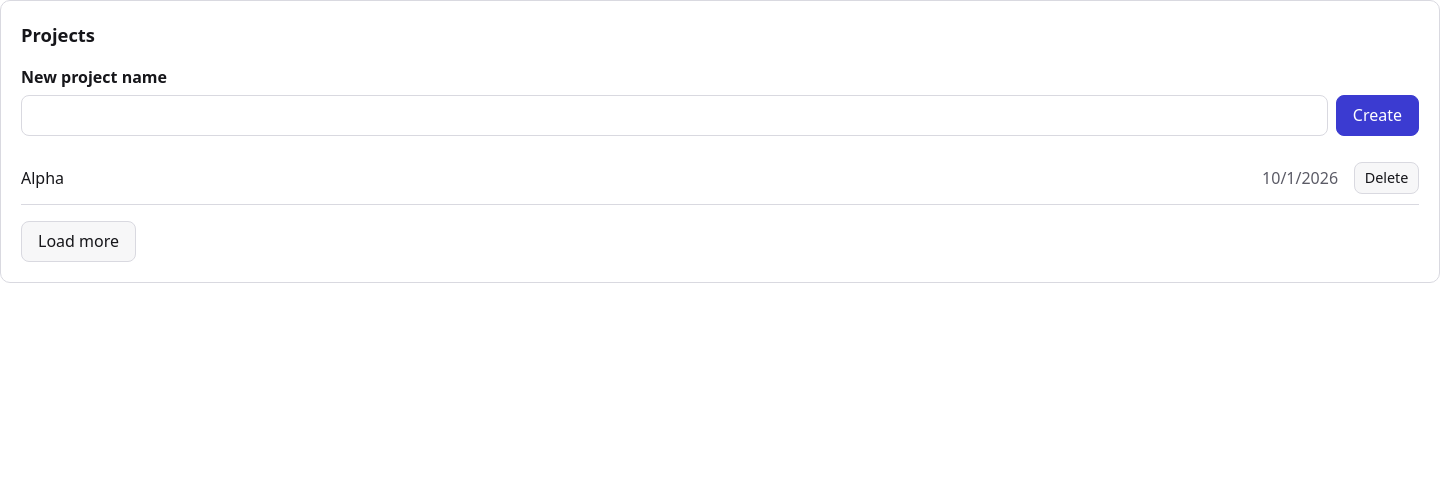
Test case: projects panel errors (FE-10) › offers sign-in when the session expired while creating, keeping the typed name
Expected: the text "Alpha" is shown, [21,166,64,188]
Type "Beta" into the field labelled "New project name".
click(674, 116); type("Beta")  # box [21,95,1328,136]
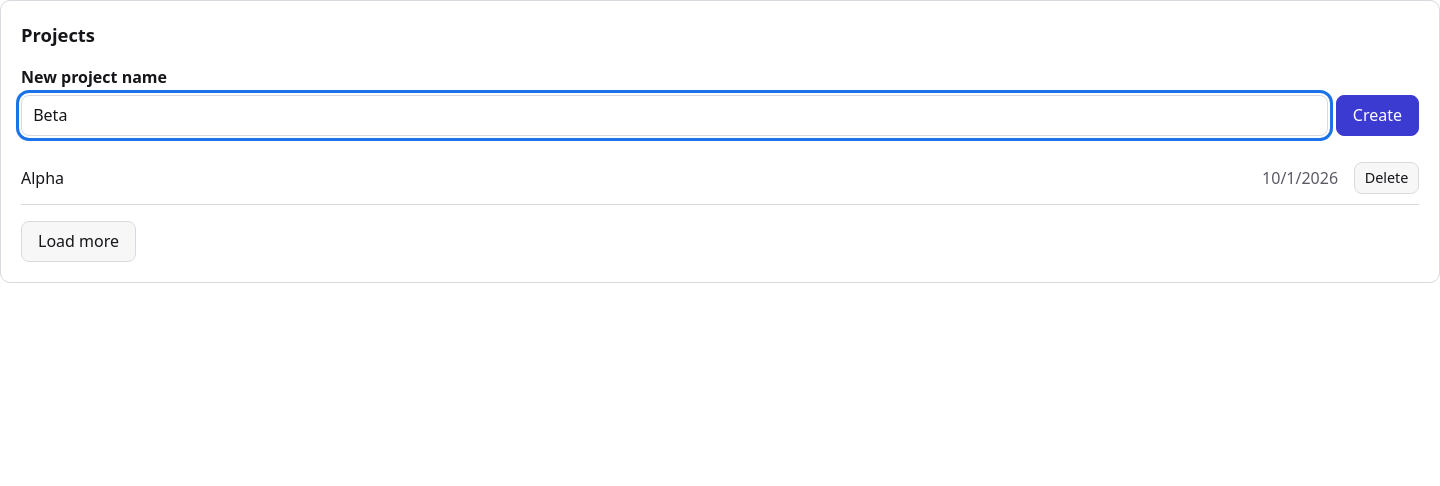
Click the button "Create".
click(1377, 116)  # box [1336,95,1419,136]
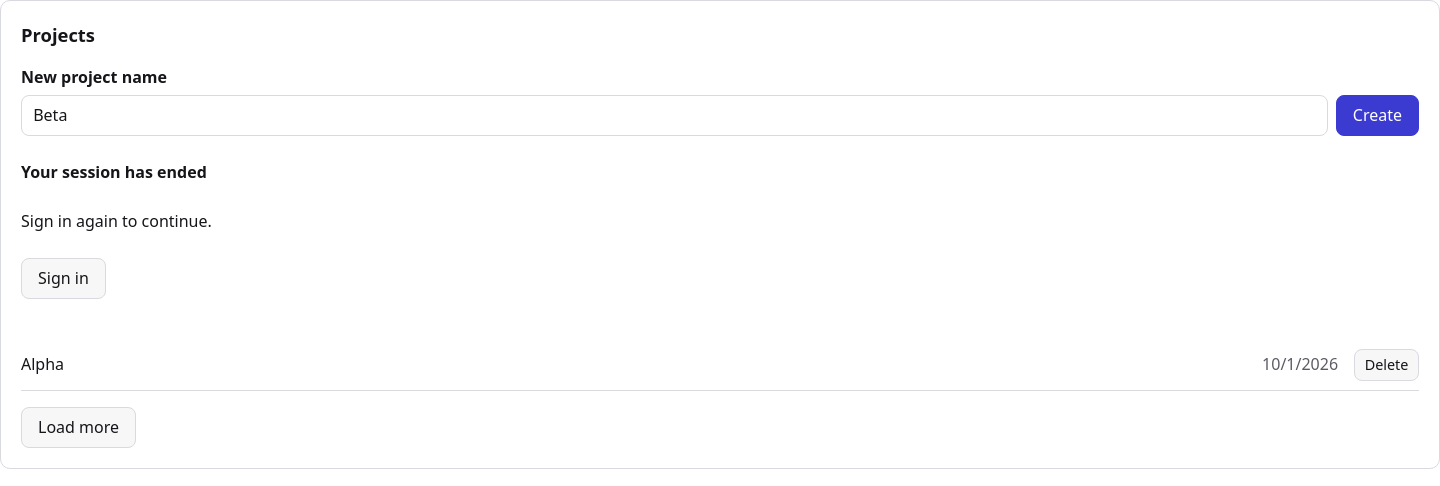
Expected: the message does not show "Token expired.", [21,161,212,299]
Expected: the message shows "Your session has ended", [21,161,207,183]
